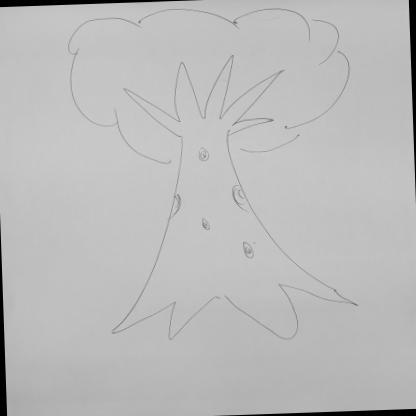branch_sharp: (120, 54, 286, 146)
crown_cloud: (66, 3, 354, 168)
knot: (232, 184, 254, 212), (166, 192, 182, 220), (241, 242, 255, 258), (197, 148, 211, 161), (201, 218, 212, 230)
root_only: (109, 268, 363, 358)
trunk_straight: (144, 164, 312, 280)
